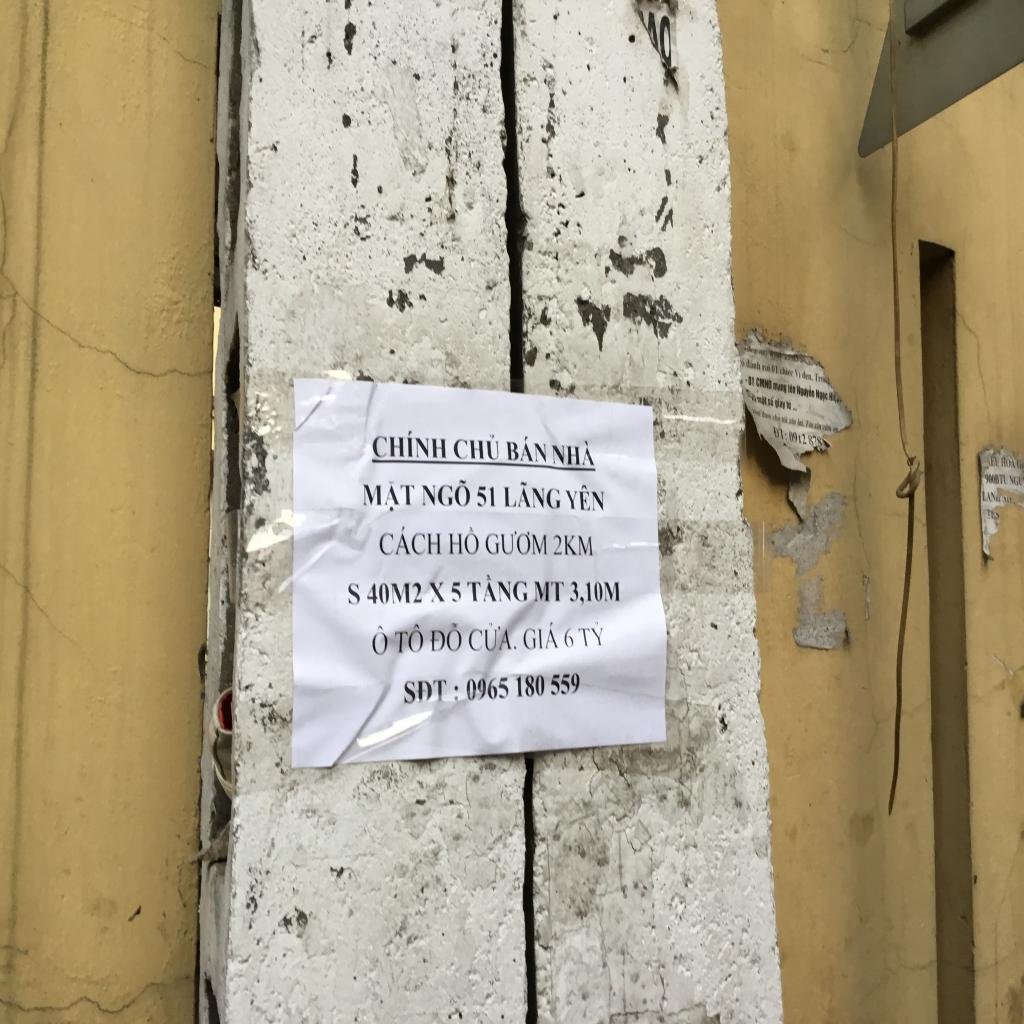text: (464, 668, 582, 705), (371, 429, 449, 461), (378, 522, 443, 558), (465, 572, 529, 604), (502, 477, 562, 511), (483, 528, 549, 558), (360, 479, 416, 514), (467, 620, 520, 654), (402, 676, 462, 706), (568, 578, 623, 608), (365, 580, 424, 607), (421, 477, 472, 508), (453, 432, 501, 461), (550, 439, 598, 468), (505, 434, 548, 466), (564, 482, 607, 514), (428, 620, 464, 655), (522, 619, 560, 652), (393, 620, 426, 656), (446, 523, 480, 557), (552, 532, 596, 558), (576, 618, 605, 650), (532, 579, 566, 604), (788, 429, 824, 450), (371, 623, 390, 659), (474, 484, 498, 509), (427, 578, 447, 605), (346, 581, 362, 607), (984, 472, 1009, 488), (450, 579, 464, 605), (796, 384, 816, 402), (563, 626, 576, 650), (772, 425, 789, 443), (755, 376, 773, 391), (981, 488, 997, 504), (1000, 454, 1016, 470), (815, 387, 829, 404), (746, 358, 762, 372), (772, 381, 788, 395), (990, 450, 1001, 469), (756, 393, 768, 410), (779, 365, 794, 378), (786, 397, 798, 412), (774, 396, 786, 410), (801, 370, 814, 382), (744, 374, 755, 388), (813, 371, 824, 384), (761, 409, 772, 421), (805, 418, 815, 431), (796, 416, 806, 428), (767, 395, 775, 409), (822, 422, 832, 433), (762, 362, 771, 374), (772, 412, 781, 424), (788, 383, 796, 396), (828, 390, 834, 404), (788, 417, 797, 426), (794, 369, 802, 379), (771, 364, 778, 375), (781, 416, 789, 425), (814, 423, 822, 431)
